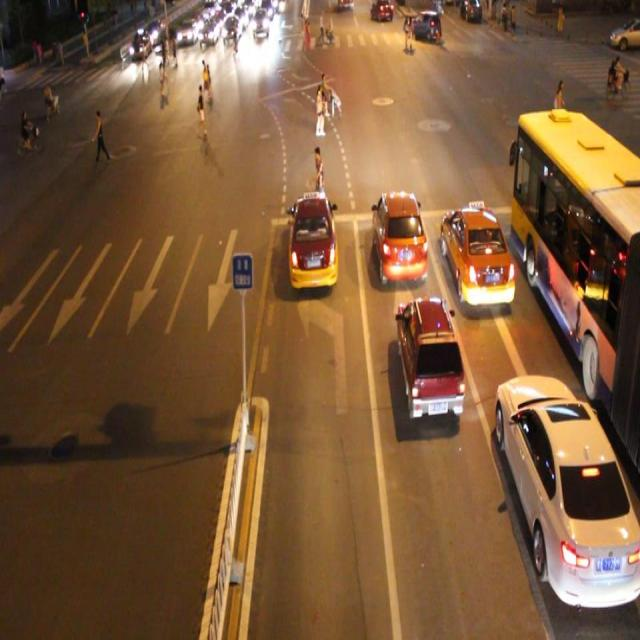car: (496, 374, 640, 606), (395, 297, 466, 422), (440, 204, 518, 308), (373, 192, 429, 288), (287, 192, 340, 289)
van: (511, 116, 640, 468)
